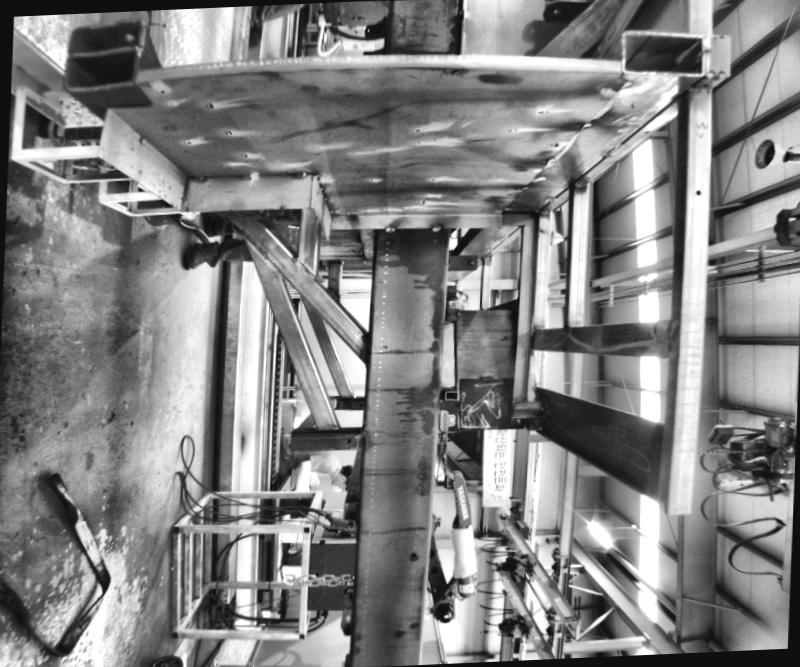hole: (693, 186, 700, 194), (632, 337, 638, 342), (410, 552, 414, 557), (346, 440, 350, 442)
welding: (288, 170, 306, 178), (189, 174, 205, 181), (238, 171, 254, 178), (382, 224, 394, 232), (431, 224, 442, 230)
